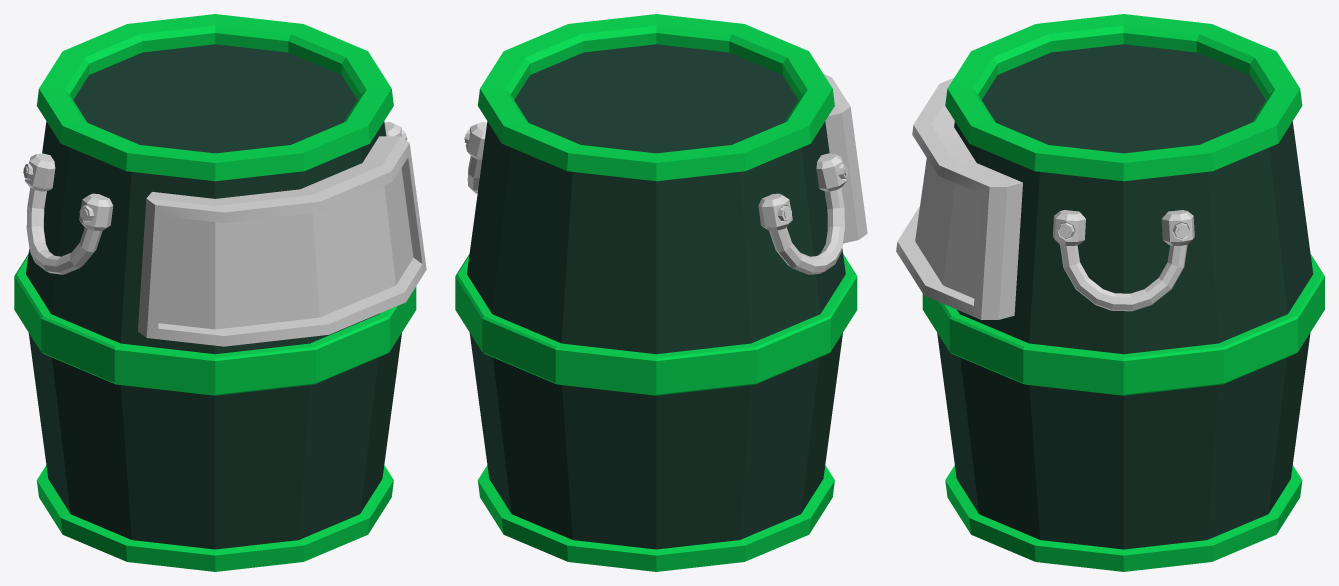
File: SM_barrel_c.fbx
3 renders of one model, left to right at view 1: azimuth 30°, elevation 25°; view 2: azimuth 150°, elevation 25°; view 3: azimuth 270°, elevation 25°, orthographic.
Parts seen in each view (by area): view 1: SM_barrel_c_c, SM_barrel_c_d, SM_barrel_c_a; view 2: SM_barrel_c_c, SM_barrel_c_a, SM_barrel_c_d, SM_barrel_c_b; view 3: SM_barrel_c_c, SM_barrel_c_d, SM_barrel_c_b.
Part boxes in pixels (x1,y1,x2,y2): SM_barrel_c_c: [14, 14, 416, 571]; SM_barrel_c_d: [138, 136, 426, 346]; SM_barrel_c_a: [23, 153, 113, 274]; SM_barrel_c_c: [455, 14, 857, 571]; SM_barrel_c_a: [758, 153, 848, 274]; SM_barrel_c_d: [824, 74, 867, 243]; SM_barrel_c_b: [464, 122, 486, 193]; SM_barrel_c_c: [922, 14, 1324, 571]; SM_barrel_c_d: [896, 78, 1022, 319]; SM_barrel_c_b: [1053, 210, 1194, 311].
Size of the model in its own units: 1.81 by 2.02 by 1.92.
